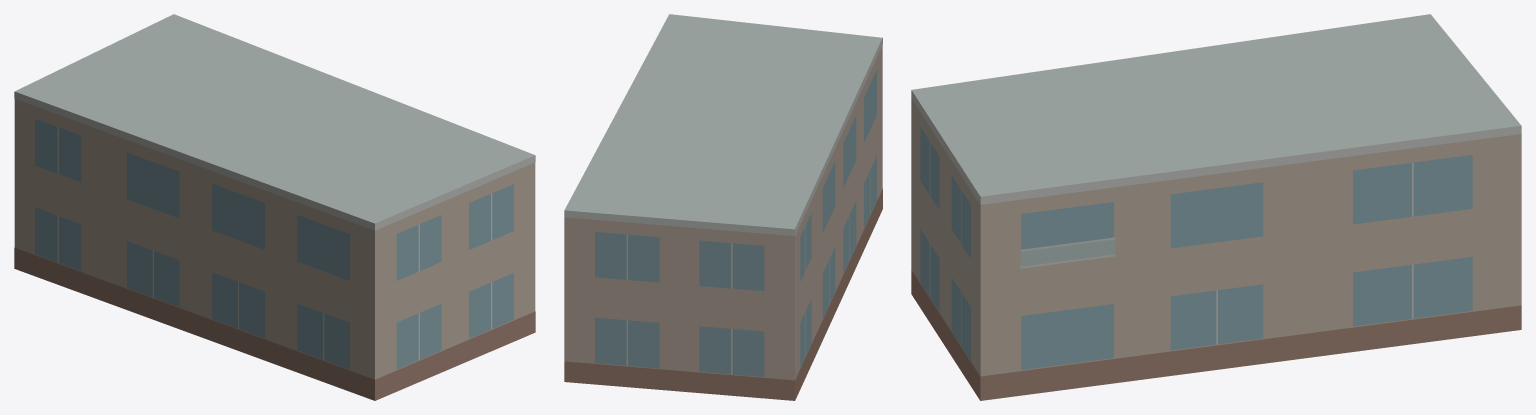
File: survey-upis-32934501.glb
3 views of the same model, side by side, from view 1: azimuth 30°, elevation 25°; view 2: azimuth 150°, elevation 25°; view 3: azimuth 270°, elevation 25° (orthographic). The views are drawn at different scales.
Visible parts, largest first — view 1: survey-upis-32934501.tmp; view 2: survey-upis-32934501.tmp; view 3: survey-upis-32934501.tmp.
Boxes of the visible parts, x1,y1,x2,y2 form: survey-upis-32934501.tmp: [14, 14, 535, 400]; survey-upis-32934501.tmp: [564, 14, 882, 400]; survey-upis-32934501.tmp: [911, 14, 1521, 400].
Size of the model in its own units: 11.73 by 6.1 by 16.54.
